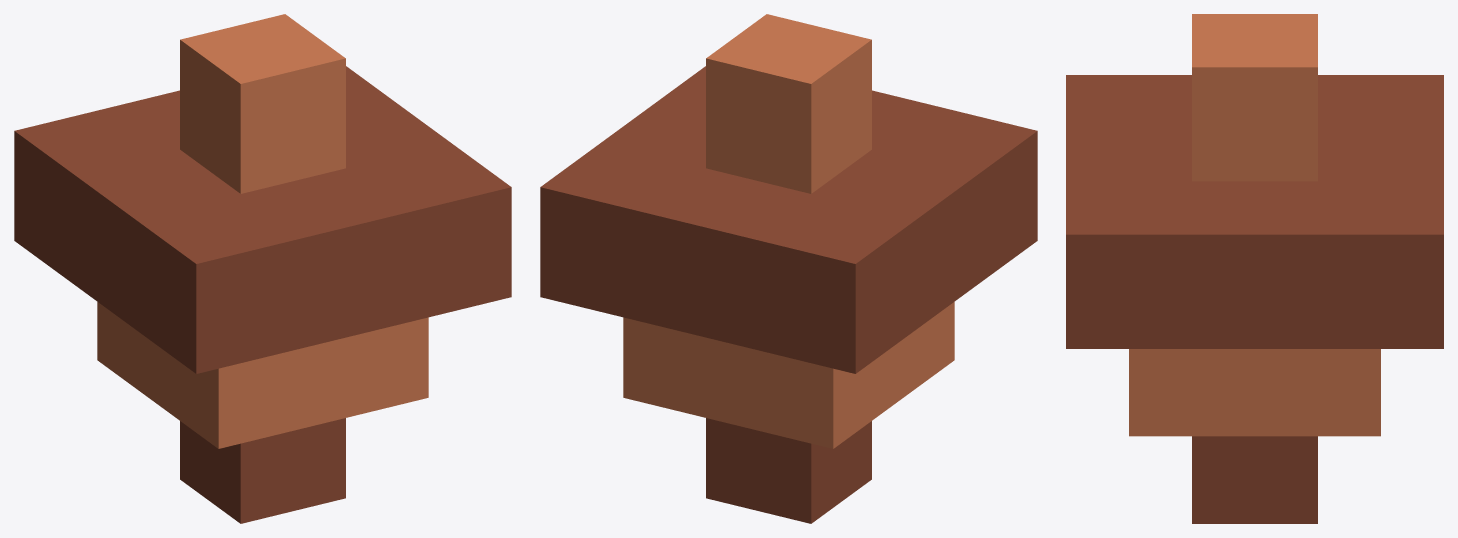
Rendered from pine.obj.
3 views of the same model, side by side, from view 1: azimuth 30°, elevation 25°; view 2: azimuth 150°, elevation 25°; view 3: azimuth 270°, elevation 25° (orthographic). The views are drawn at different scales.
Bounding box in the file's own units: 3 × 4 × 3.
1 material, 1 textured.
